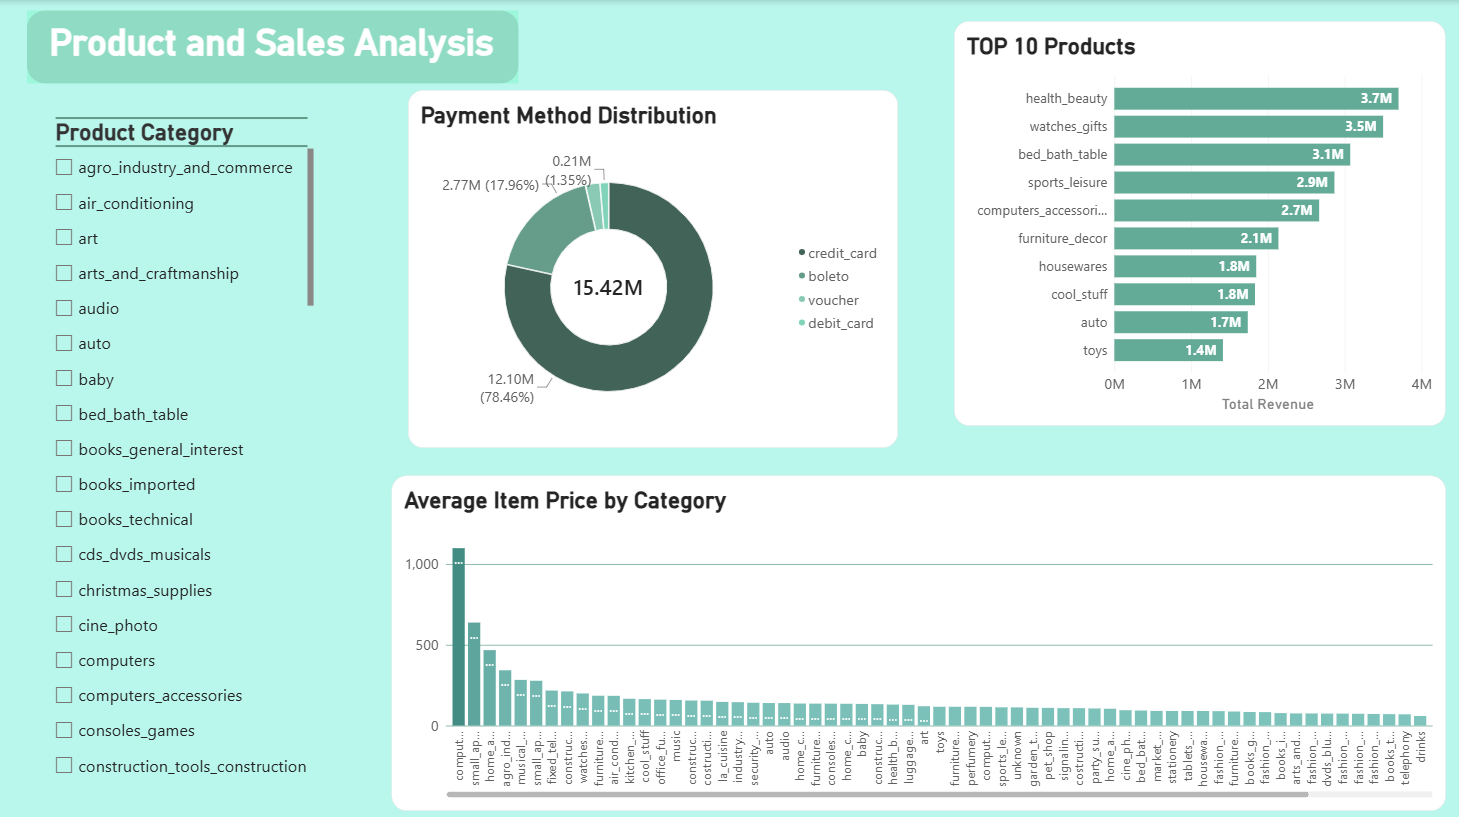

The page's visual inventory and layout, read from the dashboard file:
{"tool":"powerbi","page":{"name":"Product & Sales Analysis","canvas":[1920,1080],"ordinal":1},"visuals":[{"type":"shape","box":[38.6,13.6,642.8,95.4],"z":0},{"type":"clusteredBarChart","title":"TOP 10 Products","fields":{"Category":["public category_performance_vw.product_category_english"],"Y":["Sum(public category_performance_vw.product_revenue)"]},"box":[1251.5,27.3,642.8,529.2],"z":1000},{"type":"donutChart","title":"Payment Method Distribution","fields":{"Category":["public payment_method_vw.payment_type"],"Y":["Sum(public payment_method_vw.total_payment_value)"]},"box":[538.3,118.1,640.5,467.9],"z":2000},{"type":"clusteredColumnChart","title":"Average Item Price by Category","fields":{"Category":["public category_performance_vw.product_category_english"],"Y":["Sum(public category_performance_vw.average_item_price)"]},"box":[515.6,622.3,1378.7,438.4],"z":3000},{"type":"slicer","fields":{"Values":["public category_performance_vw.product_category_english"]},"box":[68.1,152.2,345.2,865.4],"z":4000},{"type":"textbox","box":[68.1,27.3,642.8,68.1],"z":5000}]}

Visuals, with their boxes in screenshot pixels (x1, y1, x2, y2), scaled from the page's 1920x1080 canvas onto the 1459x817 screenshot:
shape: [29,10,518,82]
"TOP 10 Products" clusteredBarChart: [951,21,1439,421]
"Payment Method Distribution" donutChart: [409,89,896,443]
"Average Item Price by Category" clusteredColumnChart: [392,471,1439,802]
slicer - public category_performance_vw.product_category_english: [52,115,314,770]
textbox: [52,21,540,72]
